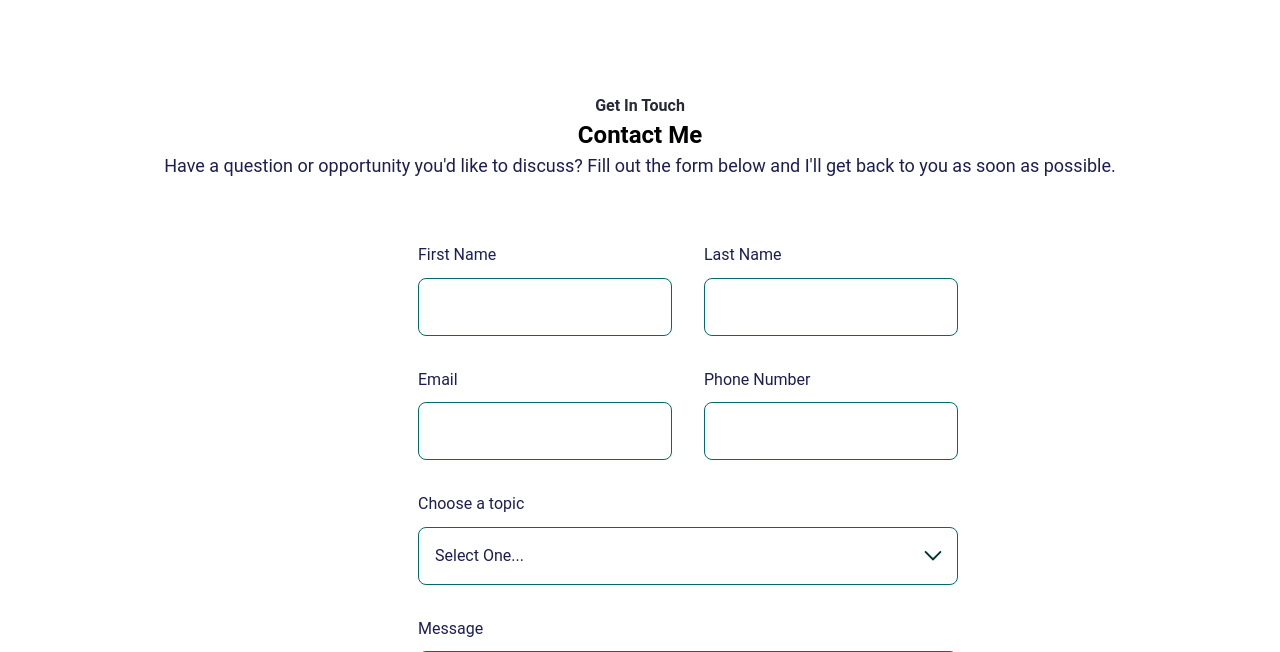
Test: ContactMe form submission › surfaces an error and logs the server's reason when rejected
Type "Ada" into the field labelled "First Name".
click(545, 307); type("Ada")  # box top-left (418, 278), bottom-right (672, 336)
Type "Lovelace" into the field labelled "Last Name".
click(831, 307); type("Lovelace")  # box top-left (704, 278), bottom-right (958, 336)
Type "ada@example.com" into the field labelled "Email".
click(545, 431); type("ada@example.com")  # box top-left (418, 402), bottom-right (672, 460)
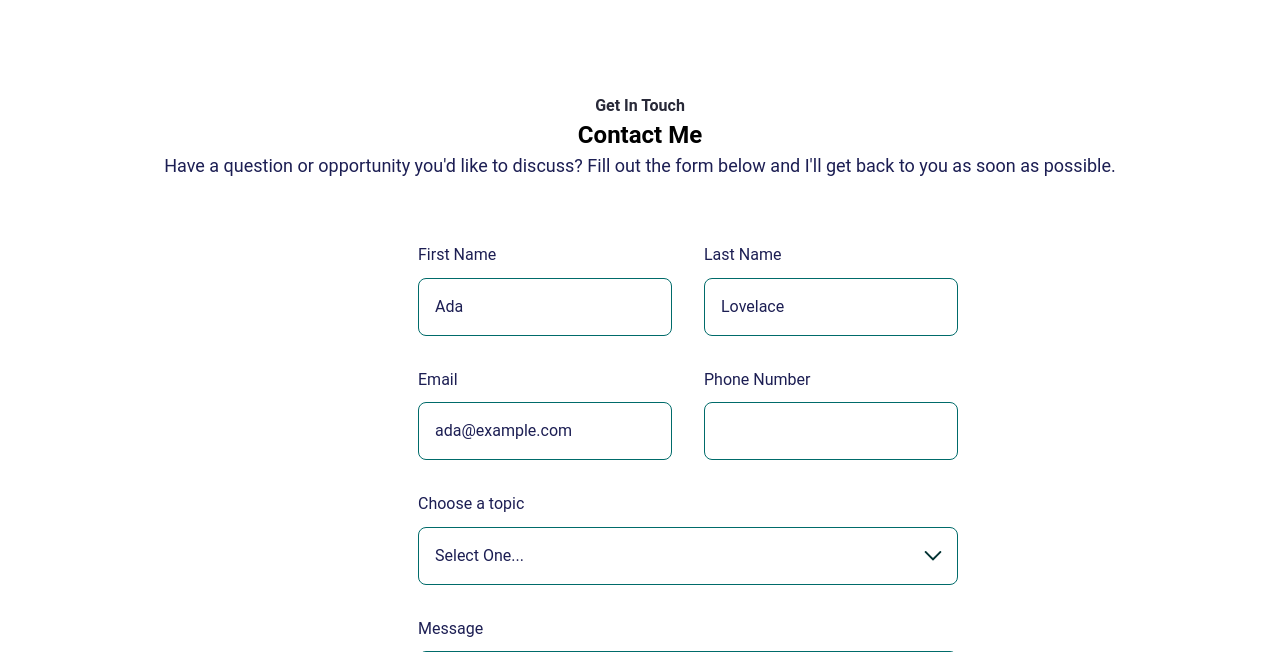
Type "5551234567" into the field labelled "Phone Number".
click(831, 431); type("5551234567")  # box top-left (704, 402), bottom-right (958, 460)
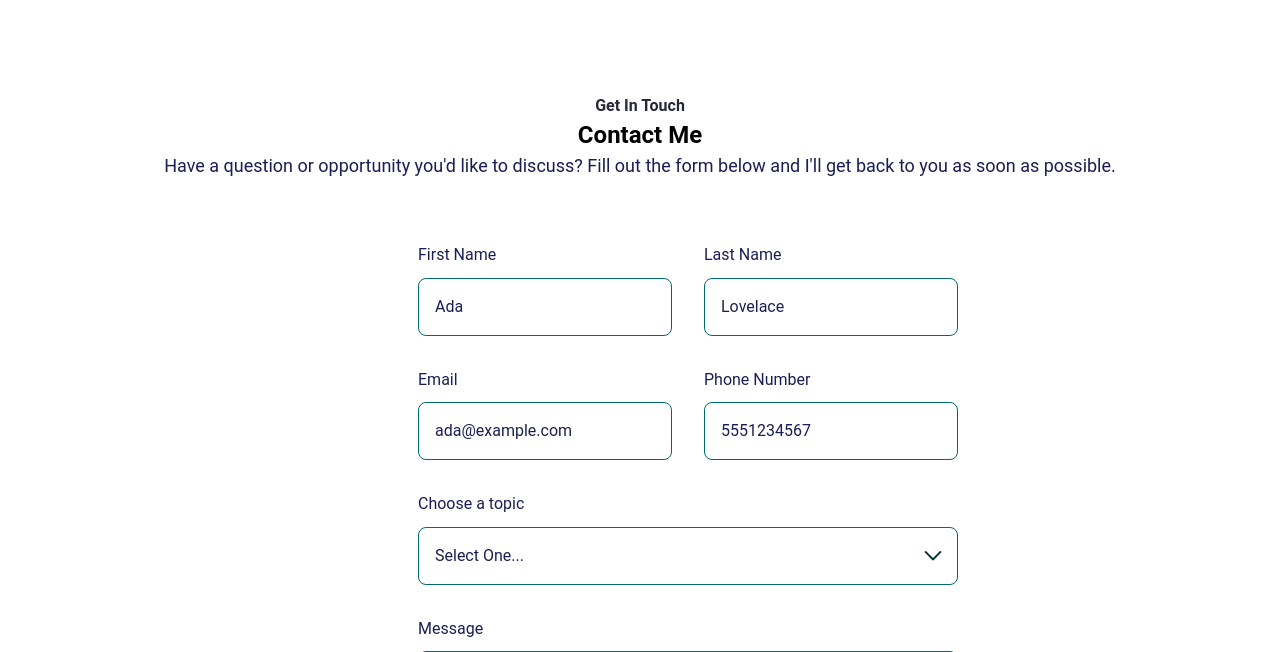
Select "Collaboration" in the dropdown labelled "Choose a topic" at (688, 556), box top-left (418, 527), bottom-right (958, 585)
(page scrolled)
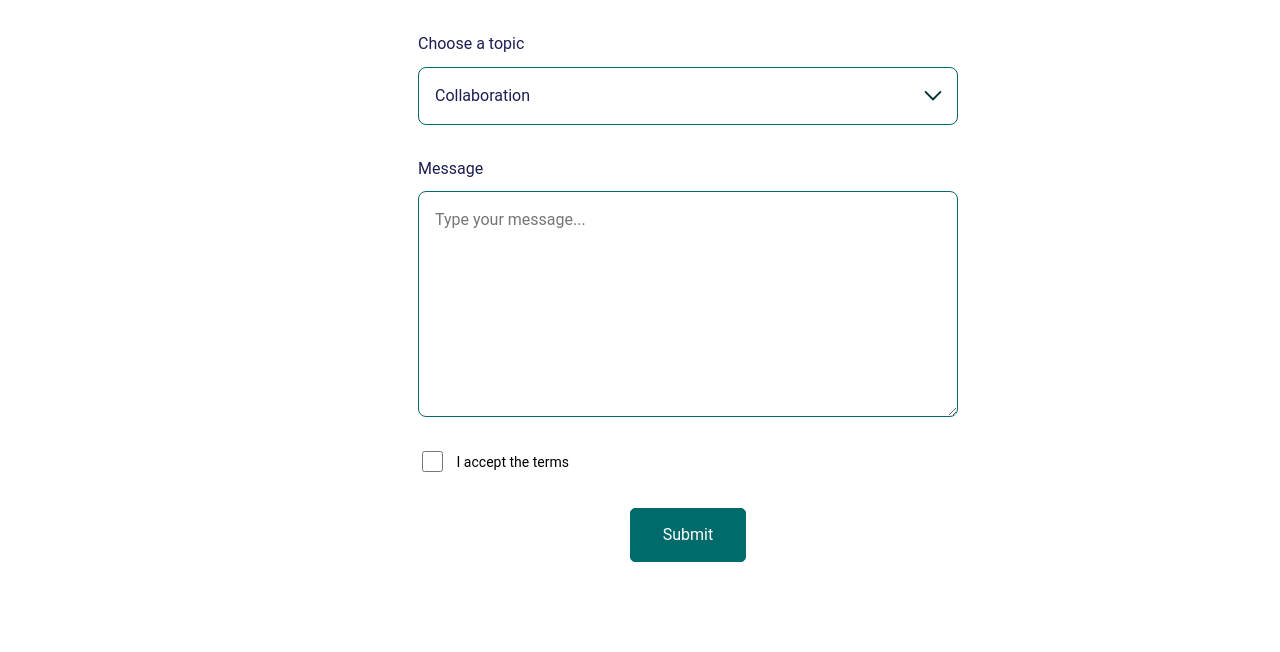
Type "Hello there." into the text box labelled "Message".
click(688, 304); type("Hello there.")  # box top-left (418, 191), bottom-right (958, 417)
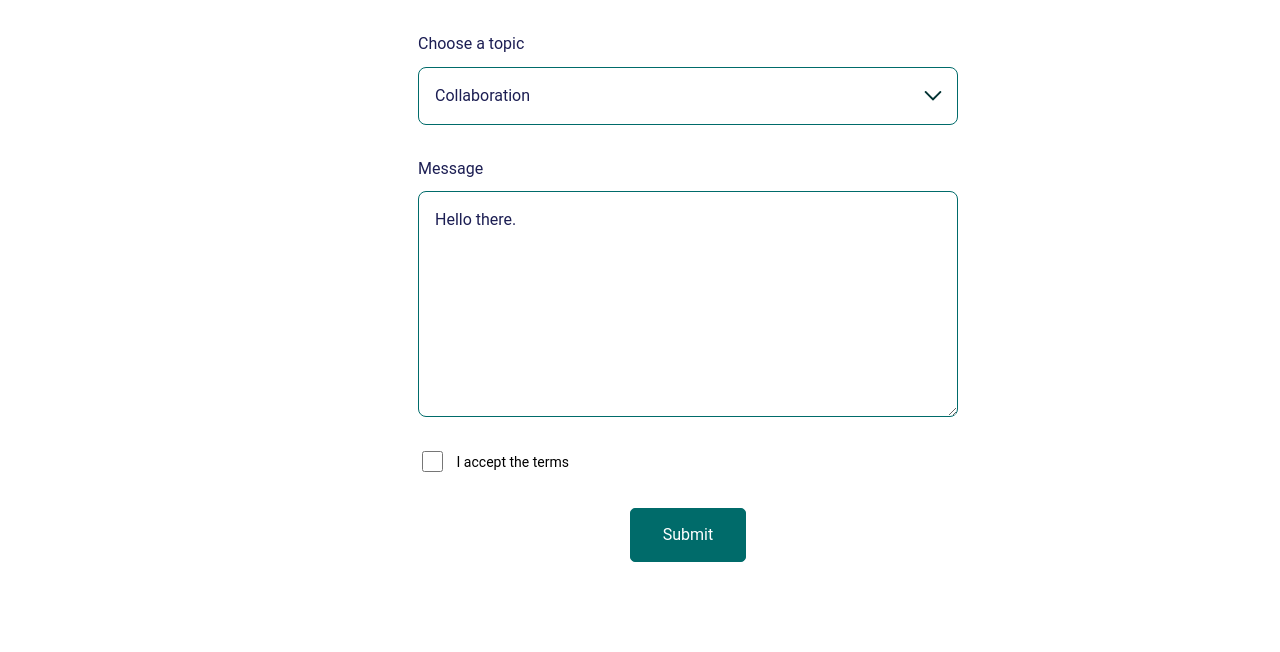
Click the checkbox labelled "I accept the terms".
click(432, 462)  # box top-left (422, 451), bottom-right (443, 472)
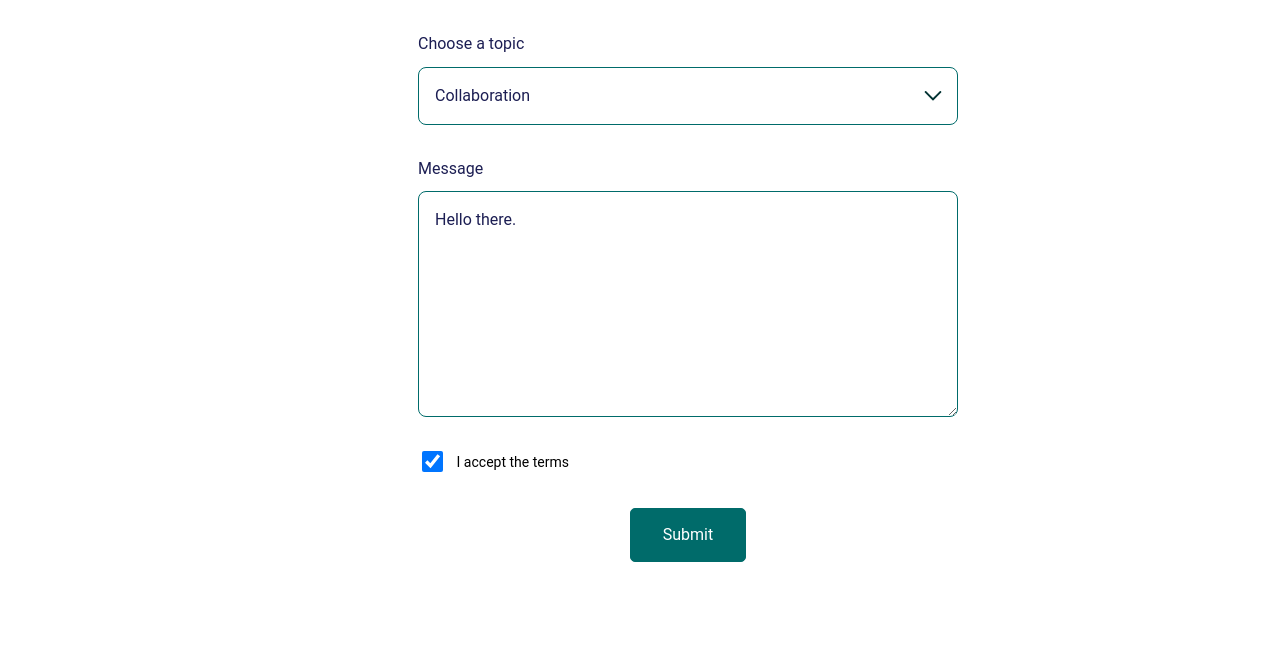
Click the button "Submit".
click(688, 535)  # box top-left (630, 508), bottom-right (746, 562)
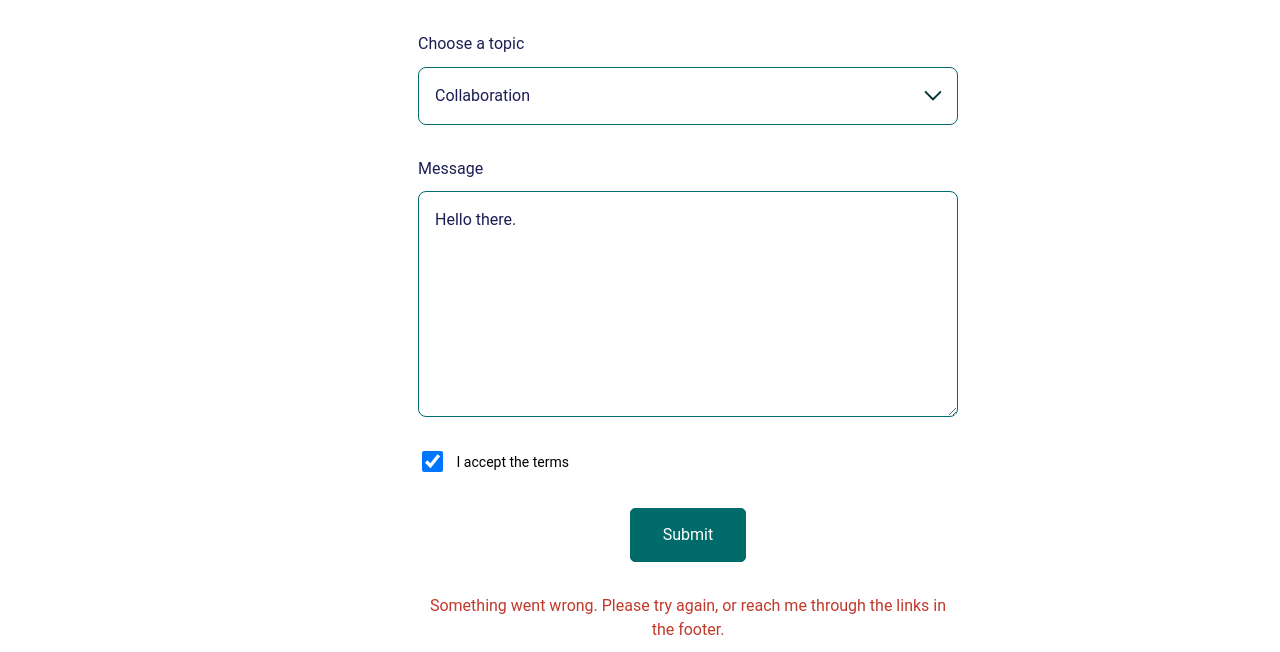
Check: the text "Something went wrong" is shown, box top-left (430, 596), bottom-right (946, 639)
